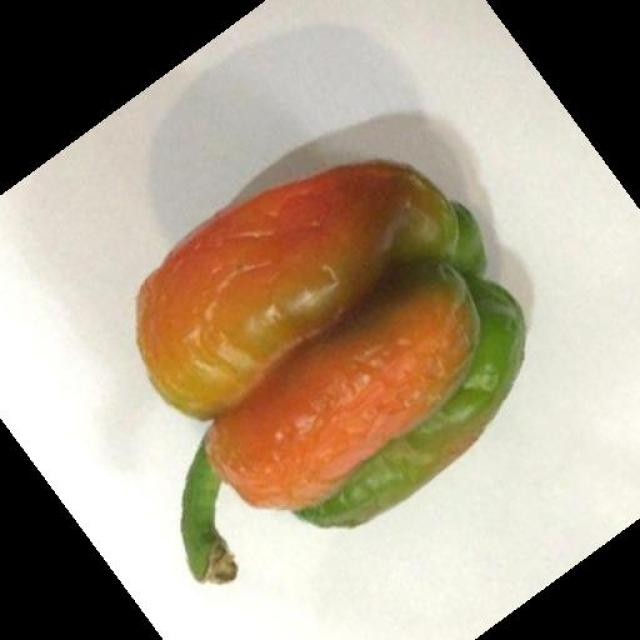Stale_Capsicum: (140, 172, 505, 540)
